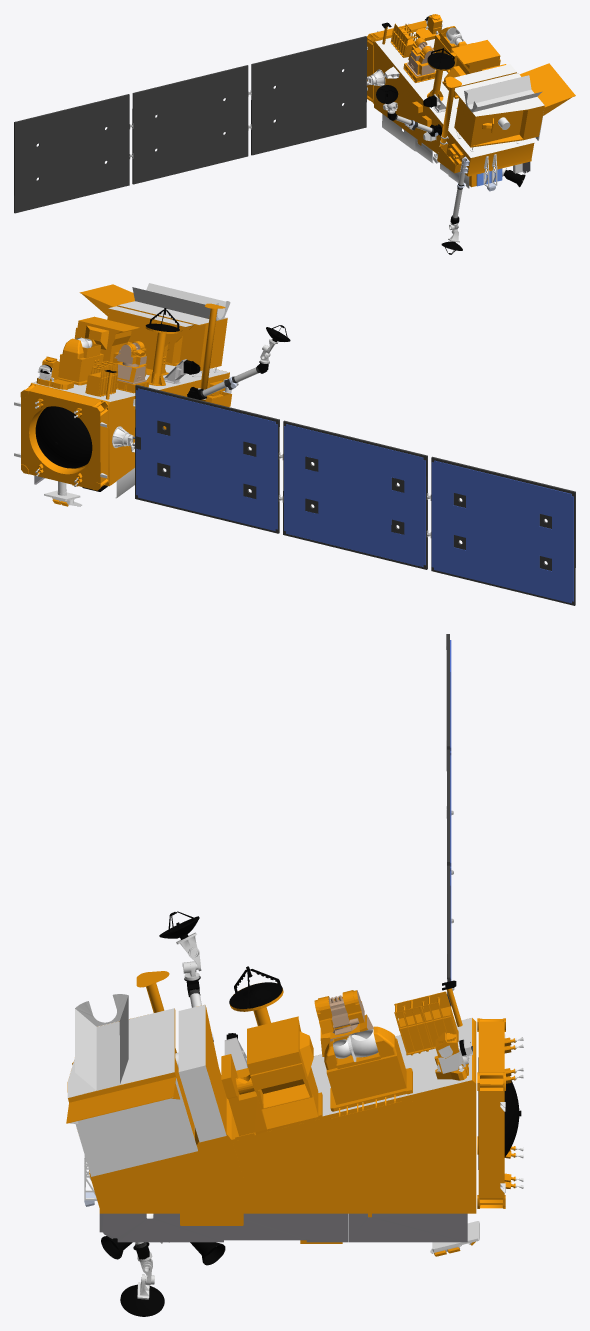
Rendered from noaa20.glb.
The picture shows the model from 3 angles, top to bottom: view 1: azimuth 30°, elevation 25°; view 2: azimuth 150°, elevation 25°; view 3: azimuth 270°, elevation 25°; orthographic projection. The views are drawn at different scales.
Visible parts, largest first — view 1: Part__Panel_011.001, Part__1_Body_016; view 2: Part__Panel_011.001, Part__1_Body_016; view 3: Part__1_Body_016, Part__Panel_011.001.
Part boxes in pixels (x1,y1,x2,y2): Part__Panel_011.001: (14,36,376,213); Part__1_Body_016: (367,14,575,254); Part__Panel_011.001: (122,384,575,605); Part__1_Body_016: (14,283,290,506); Part__1_Body_016: (66,911,523,1316); Part__Panel_011.001: (446,634,454,1006).
Bounding box in the file's own units: 11.17 × 4.18 × 4.74.
